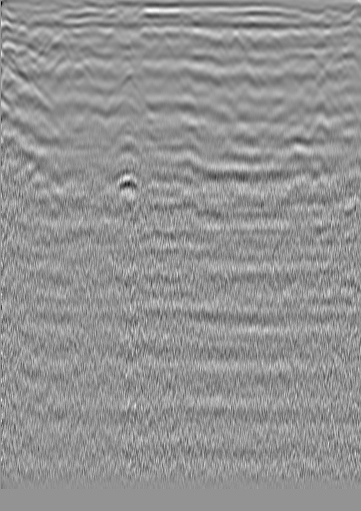가스: (103, 161, 149, 193)
상수: (17, 39, 37, 59)
오수: (293, 23, 313, 43)
우수: (162, 34, 182, 54)
